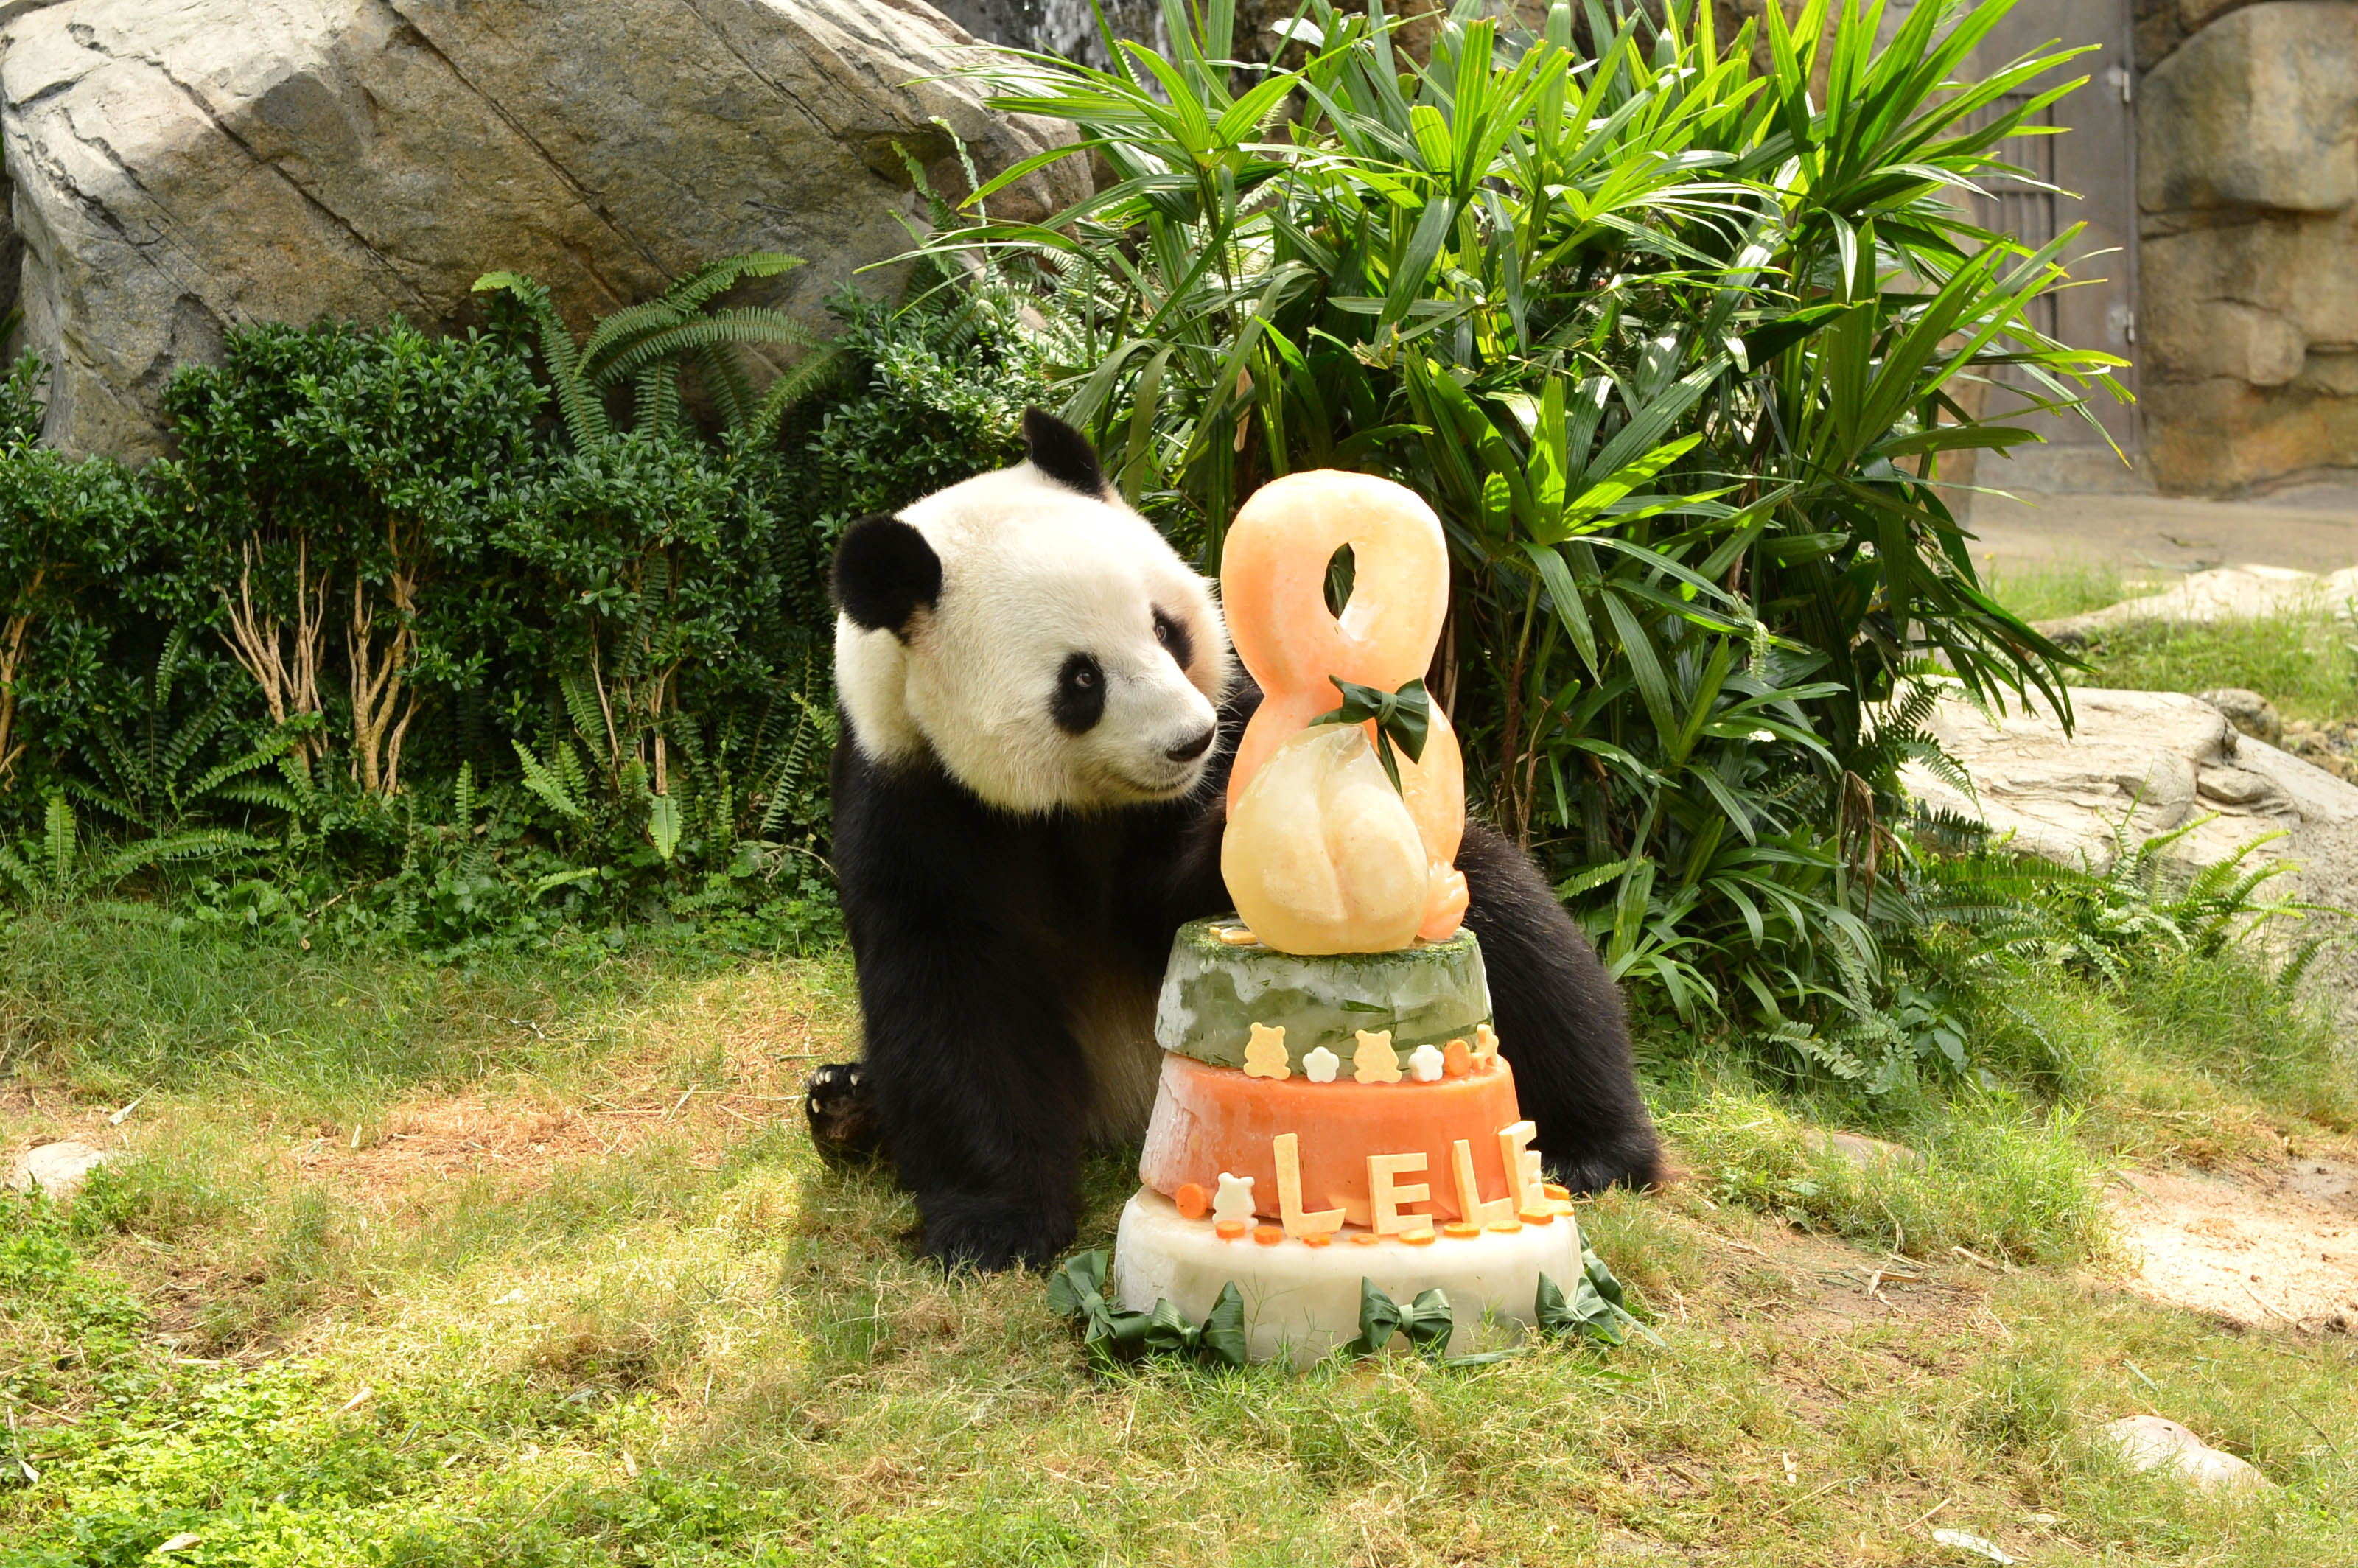panda: (784, 448, 1658, 1216)
